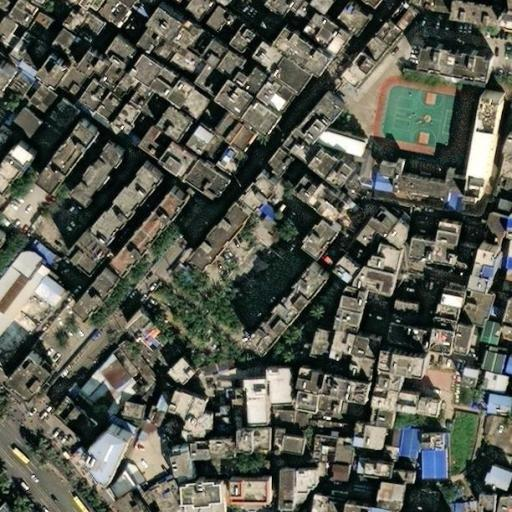building: (242, 258, 320, 345), (113, 188, 188, 273), (86, 156, 156, 235), (66, 343, 135, 417), (32, 116, 92, 186), (181, 201, 241, 269), (380, 153, 466, 194), (289, 169, 352, 221), (285, 33, 345, 85), (78, 150, 129, 211), (464, 88, 497, 171), (393, 356, 451, 401), (82, 432, 129, 485), (410, 39, 480, 72), (361, 269, 425, 305), (63, 272, 110, 321), (2, 349, 48, 397), (65, 9, 114, 54), (153, 38, 202, 83), (139, 59, 188, 104), (308, 100, 353, 149), (23, 86, 70, 131), (58, 229, 103, 275), (2, 110, 51, 151), (415, 240, 484, 269), (319, 154, 367, 195), (382, 390, 445, 421), (347, 290, 385, 340), (10, 1, 53, 44), (124, 84, 168, 125), (205, 43, 250, 83), (355, 426, 397, 468), (188, 163, 234, 201), (358, 339, 393, 386), (7, 32, 47, 73), (322, 23, 363, 63), (305, 214, 344, 256), (223, 84, 263, 124), (248, 103, 289, 142), (252, 178, 291, 219), (281, 63, 322, 101), (193, 63, 232, 102), (288, 130, 327, 169), (168, 16, 208, 54), (173, 85, 213, 123), (187, 126, 228, 163), (338, 379, 385, 409), (50, 64, 88, 101), (166, 110, 203, 147), (261, 81, 298, 118), (231, 123, 268, 160), (55, 33, 92, 69), (166, 147, 203, 183), (453, 5, 506, 30), (73, 80, 108, 116), (90, 58, 126, 93), (287, 0, 323, 35), (217, 148, 252, 183), (422, 436, 447, 485), (247, 383, 273, 430), (229, 23, 263, 58), (342, 7, 376, 41), (258, 45, 294, 77), (193, 485, 235, 512), (237, 72, 276, 101), (122, 314, 155, 348), (141, 479, 175, 512), (465, 369, 506, 396), (147, 340, 180, 373), (109, 105, 139, 141), (141, 129, 171, 165), (92, 94, 124, 127), (495, 121, 512, 183), (464, 291, 493, 327), (269, 371, 296, 409), (110, 42, 142, 74), (185, 415, 219, 445), (239, 481, 276, 507), (308, 13, 338, 45), (477, 345, 508, 375), (201, 4, 231, 35), (219, 114, 248, 146), (318, 333, 346, 366), (391, 325, 425, 352), (121, 0, 162, 22), (309, 373, 342, 400), (493, 254, 512, 300), (264, 151, 293, 181), (309, 434, 333, 470), (483, 215, 509, 248), (396, 428, 421, 462), (374, 409, 408, 434), (103, 3, 132, 32), (339, 260, 368, 288), (391, 299, 418, 329), (377, 250, 408, 276), (329, 440, 348, 481), (270, 0, 301, 25), (112, 75, 139, 103), (173, 363, 202, 389), (358, 227, 385, 254), (258, 15, 284, 43), (199, 444, 221, 477), (391, 224, 415, 254), (304, 394, 334, 418), (243, 428, 270, 454), (442, 307, 467, 335), (443, 332, 468, 360), (385, 488, 414, 512), (52, 401, 77, 428), (182, 452, 202, 485), (338, 354, 363, 380), (343, 334, 368, 359), (176, 395, 199, 422), (329, 398, 357, 420), (488, 394, 512, 419), (75, 420, 99, 445), (278, 434, 304, 457), (218, 442, 245, 464), (443, 225, 468, 248), (478, 320, 499, 347), (272, 407, 299, 428), (66, 414, 89, 438), (285, 473, 299, 511), (24, 244, 47, 267), (490, 467, 512, 491), (408, 0, 443, 14), (412, 491, 435, 512), (120, 14, 138, 40), (0, 20, 15, 51), (448, 496, 477, 512), (473, 413, 492, 437), (118, 496, 146, 512), (448, 291, 470, 311), (465, 329, 480, 357), (227, 389, 242, 417), (214, 409, 229, 437), (299, 473, 318, 494), (223, 15, 244, 34), (421, 333, 440, 353), (367, 174, 390, 190), (485, 499, 512, 512), (0, 492, 17, 512), (368, 468, 394, 481), (118, 406, 139, 422), (193, 400, 210, 419), (442, 186, 459, 205), (153, 394, 169, 414), (347, 475, 369, 486), (141, 408, 153, 427), (149, 410, 163, 426), (352, 458, 363, 475)
